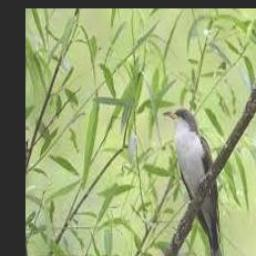Cuckoo: (164, 108, 229, 256)
